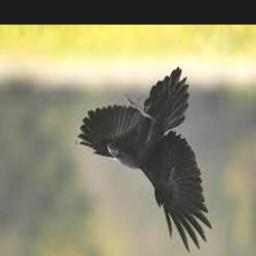Crow: (75, 67, 211, 253)
